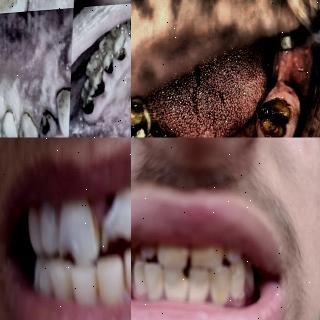calculus: (205, 271, 229, 304), (186, 269, 208, 303), (167, 276, 188, 308), (160, 244, 190, 266), (229, 269, 247, 303), (193, 248, 224, 266), (131, 264, 145, 296), (148, 274, 164, 298)
cavities: (95, 174, 125, 248), (131, 98, 153, 138)
stains: (78, 192, 98, 250), (87, 265, 104, 299), (121, 250, 131, 304)
